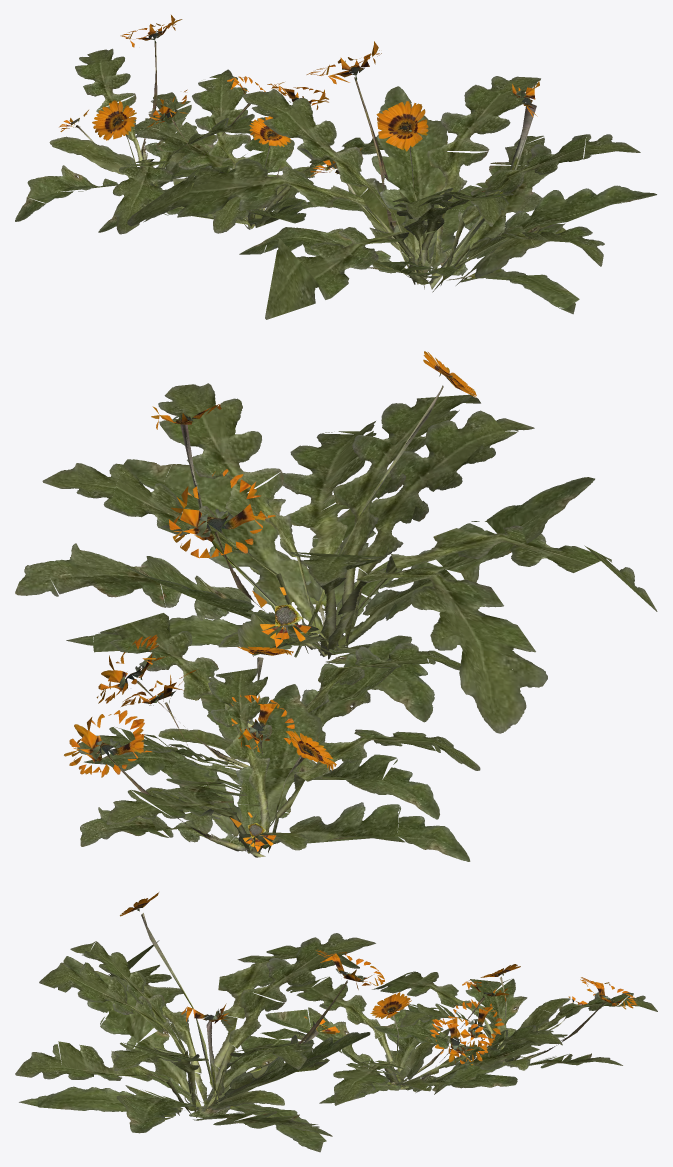
Rendered from veg-flower-gazania-0edec0989d8b.glb.
The picture shows the model from 3 angles, top to bottom: view 1: azimuth 30°, elevation 25°; view 2: azimuth 150°, elevation 25°; view 3: azimuth 270°, elevation 25°; orthographic projection. The views are drawn at different scales.
Parts seen in each view (by area): view 1: veg-flower-gazania; view 2: veg-flower-gazania; view 3: veg-flower-gazania.
Boxes of the visible parts, x1,y1,x2,y2 form: veg-flower-gazania: (15, 15, 656, 319); veg-flower-gazania: (15, 351, 657, 861); veg-flower-gazania: (15, 892, 657, 1152).
Bounding box in the file's own units: 0.7771 × 0.36 × 1.05.
Materials: 1 (1 with a texture image).
